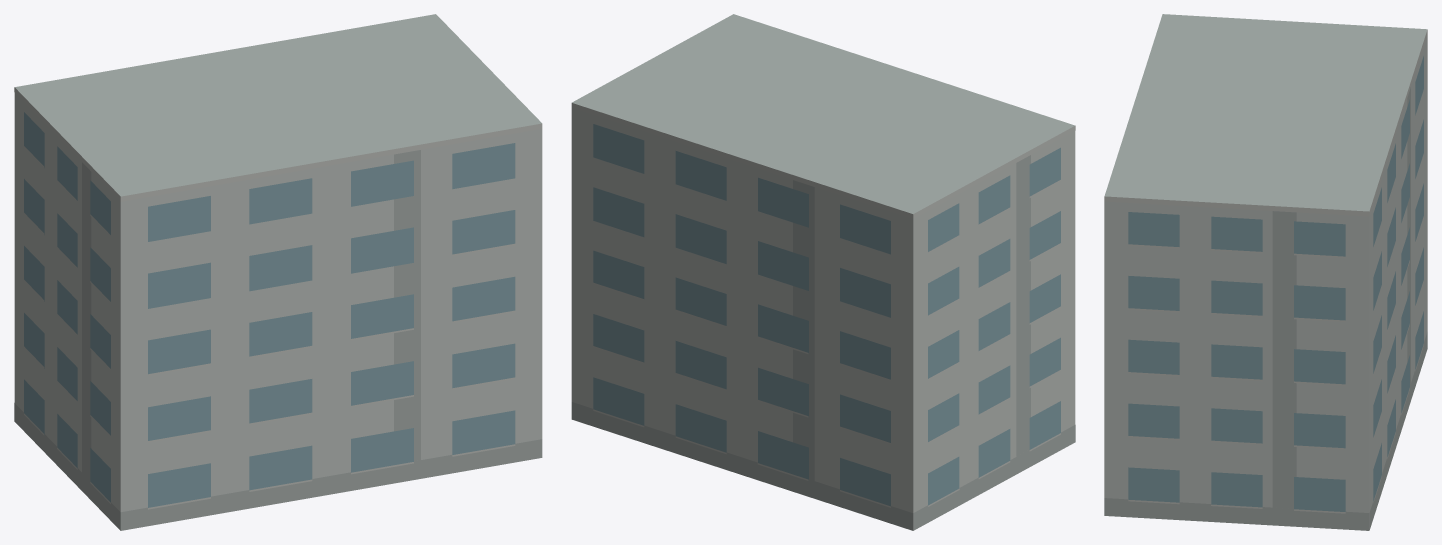
File: residential-a9e12f0d-8207-4626-b148-8885f4948cff.glb
The picture shows the model from 3 angles, left to right: view 1: azimuth 30°, elevation 25°; view 2: azimuth 150°, elevation 25°; view 3: azimuth 270°, elevation 25°; orthographic projection. The views are drawn at different scales.
Parts seen in each view (by area): view 1: residential-a9e12f0d-8207-4626-b148-8885f4948cff.tmp; view 2: residential-a9e12f0d-8207-4626-b148-8885f4948cff.tmp; view 3: residential-a9e12f0d-8207-4626-b148-8885f4948cff.tmp.
Part boxes in pixels (x1,y1,x2,y2): residential-a9e12f0d-8207-4626-b148-8885f4948cff.tmp: (14, 14, 542, 530); residential-a9e12f0d-8207-4626-b148-8885f4948cff.tmp: (571, 14, 1075, 530); residential-a9e12f0d-8207-4626-b148-8885f4948cff.tmp: (1104, 14, 1427, 530).
Bounding box in the file's own units: 20.23 × 15.25 × 13.99.
